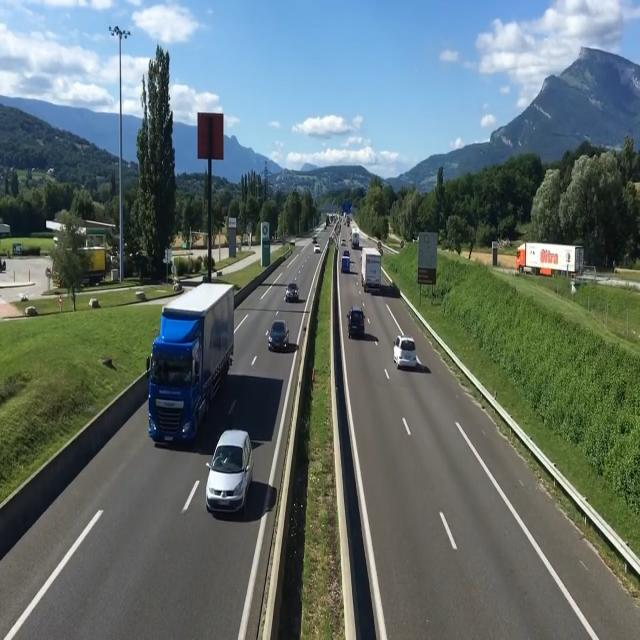car: (207, 430, 252, 514), (394, 334, 424, 374), (269, 318, 289, 353), (347, 304, 365, 342), (284, 281, 300, 305), (340, 254, 352, 273)
truck: (143, 300, 211, 446), (362, 246, 383, 292), (349, 224, 363, 251)
